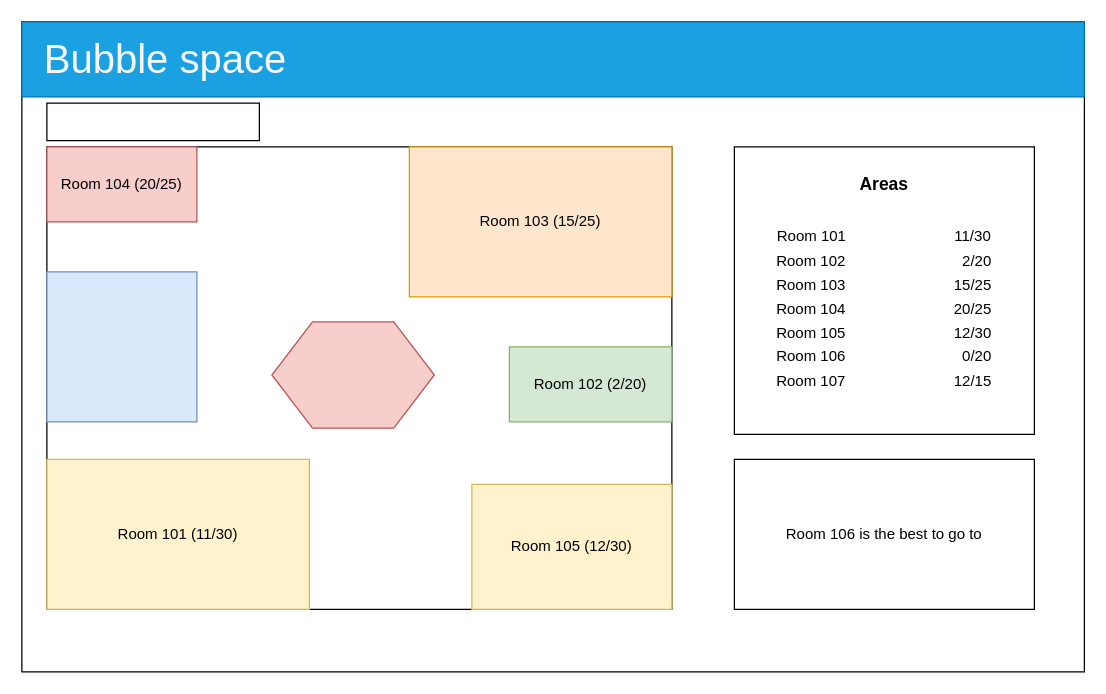
Some shapes in this 1106 by 694 pixel diagram are drawn without their labels. The box of each missing label's shape, as (x1, y1, x2, y2) in pixels:
Building WS >> Level 6: (46, 102, 259, 141)
Room 106 (0/20): (46, 271, 197, 422)
Room 107 (12/15): (271, 321, 434, 428)
